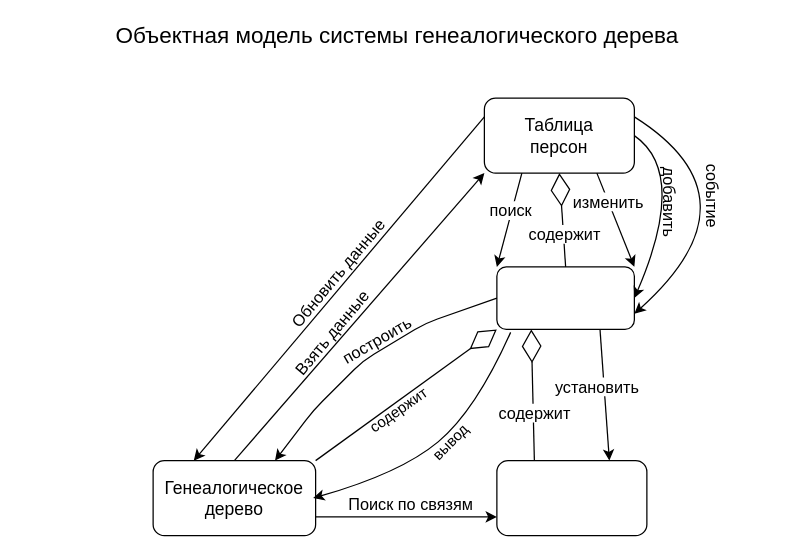
This 793x558 diagram has some shape labels left out. Each missing label, with the centre of its shape:
Персона: the point at 565,297
Родственная связь: the point at 571,497
